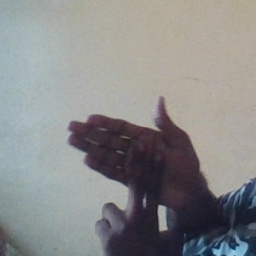N: (58, 95, 188, 242)
